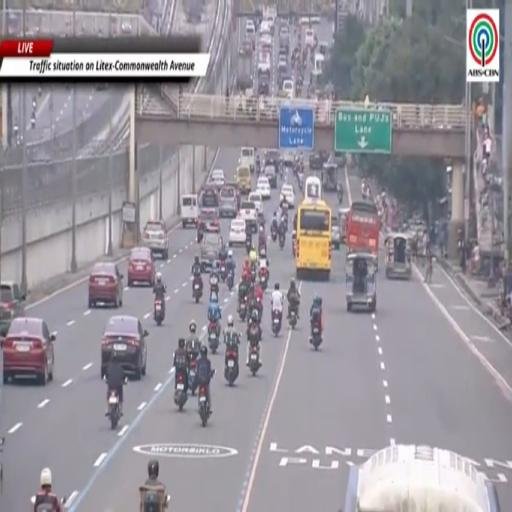bus: (343, 445, 500, 511), (295, 199, 332, 280), (346, 200, 380, 254), (304, 176, 321, 199)
car: (2, 317, 55, 385), (101, 315, 148, 379), (88, 262, 122, 309), (0, 281, 25, 335), (127, 247, 155, 286), (143, 220, 168, 259), (200, 230, 222, 271), (197, 208, 218, 242), (219, 186, 238, 218), (181, 195, 199, 228), (240, 201, 257, 232), (229, 218, 246, 246), (198, 207, 218, 230), (200, 183, 218, 207), (280, 184, 294, 209), (309, 152, 329, 169), (248, 191, 263, 213), (256, 176, 270, 199), (264, 150, 280, 170), (331, 218, 341, 249), (264, 165, 276, 188), (210, 169, 225, 185), (240, 38, 253, 56), (282, 80, 294, 99), (304, 29, 315, 48), (260, 34, 272, 51), (282, 151, 294, 168), (246, 20, 255, 39), (209, 178, 224, 188), (278, 55, 288, 70)
jeepney: (346, 251, 377, 312), (385, 233, 411, 279), (339, 208, 349, 243)
motorcycle: (174, 373, 188, 412), (225, 348, 238, 386), (108, 390, 120, 429), (198, 386, 209, 426), (249, 297, 262, 324), (249, 345, 260, 376), (208, 323, 218, 354), (248, 323, 262, 345), (189, 358, 197, 395), (311, 323, 322, 349), (154, 299, 164, 326), (193, 277, 202, 303), (272, 311, 281, 337), (210, 276, 219, 298), (239, 297, 247, 321), (259, 272, 267, 291), (289, 309, 297, 328), (220, 262, 227, 282), (282, 211, 288, 232), (227, 270, 233, 291), (292, 231, 296, 257), (279, 232, 285, 249), (259, 246, 266, 260), (271, 226, 277, 242), (251, 266, 257, 282), (246, 238, 251, 254), (59, 498, 67, 507)
